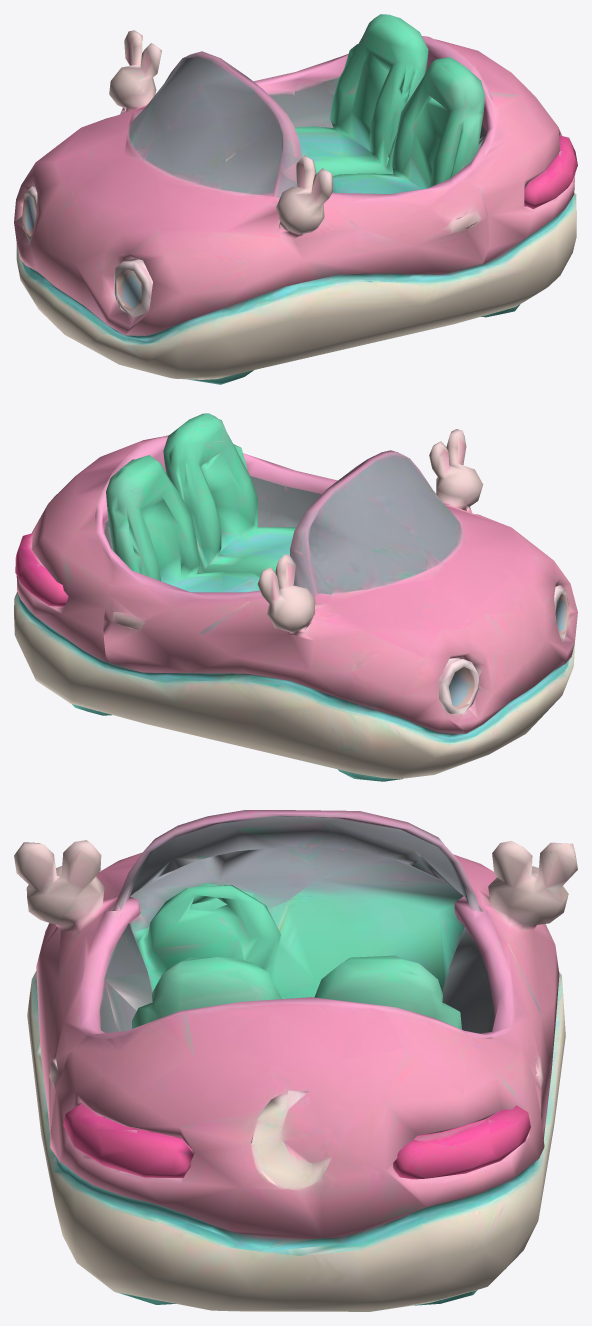
Rendered from roadster.glb.
3 renders of one model, top to bottom at view 1: azimuth 30°, elevation 25°; view 2: azimuth 150°, elevation 25°; view 3: azimuth 270°, elevation 25°, orthographic. The views are drawn at different scales.
Parts seen in each view (by area): view 1: V01_hover-roadster; view 2: V01_hover-roadster; view 3: V01_hover-roadster.
Part boxes in pixels (x1=…): V01_hover-roadster: x1=14, y1=14, x2=577, y2=384; V01_hover-roadster: x1=14, y1=413, x2=577, y2=781; V01_hover-roadster: x1=14, y1=810, x2=577, y2=1311.
Size of the model in its own units: 2.04 by 1 by 1.47.
1 material, 1 textured.
